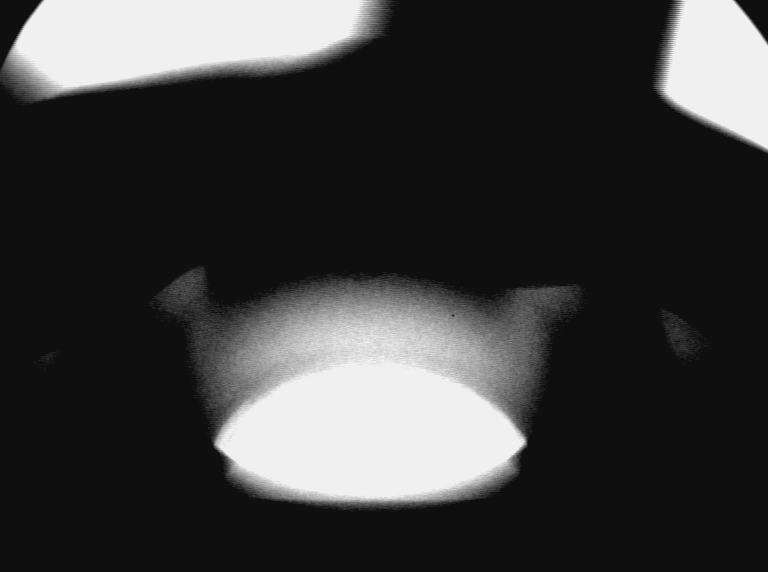defect: (154, 265, 223, 337)
